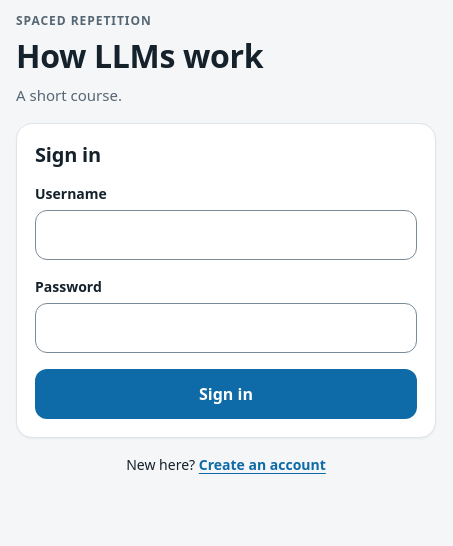
Test: SignIn › explains a 401 from the server and lets the learner retry
The width and height of the screenshot is (453, 546).
Type "ada" into the field labelled "Username" at (226, 234), box x1=35 y1=210 x2=417 y2=260
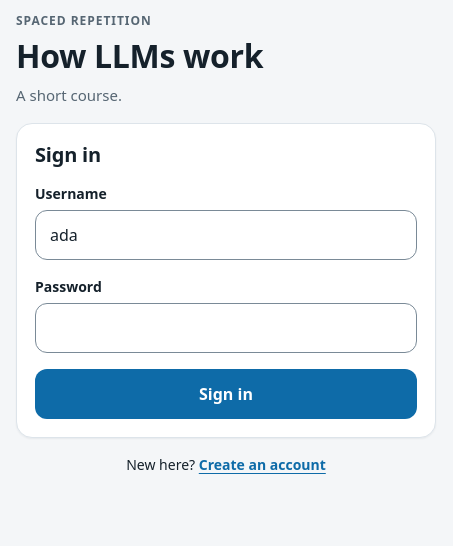
Type "long-enough-password" into the password field labelled "Password" at (226, 328), box x1=35 y1=302 x2=417 y2=352
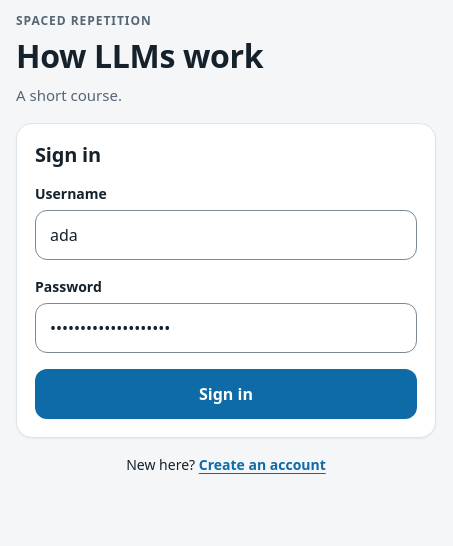
Click the button "Sign in" at (226, 394), box x1=35 y1=368 x2=417 y2=418
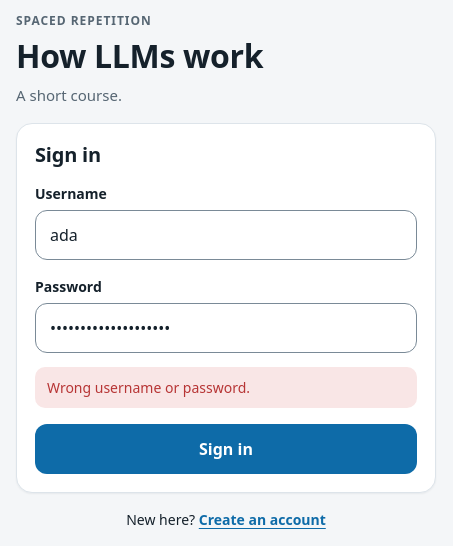
Expected: the button "Sign in" is enabled, x1=35 y1=424 x2=417 y2=474
Result: the message reads "Wrong username or password." at x1=47 y1=378 x2=250 y2=396
